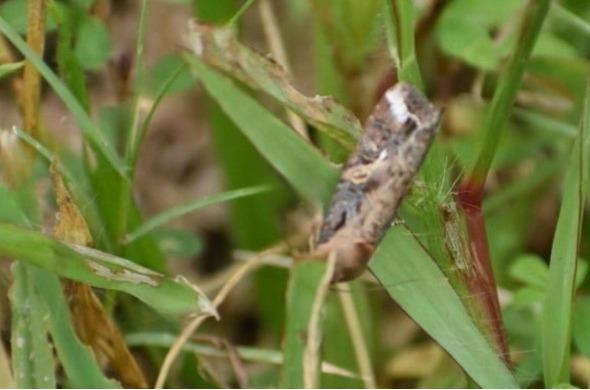army worm adult: (290, 50, 454, 293)
